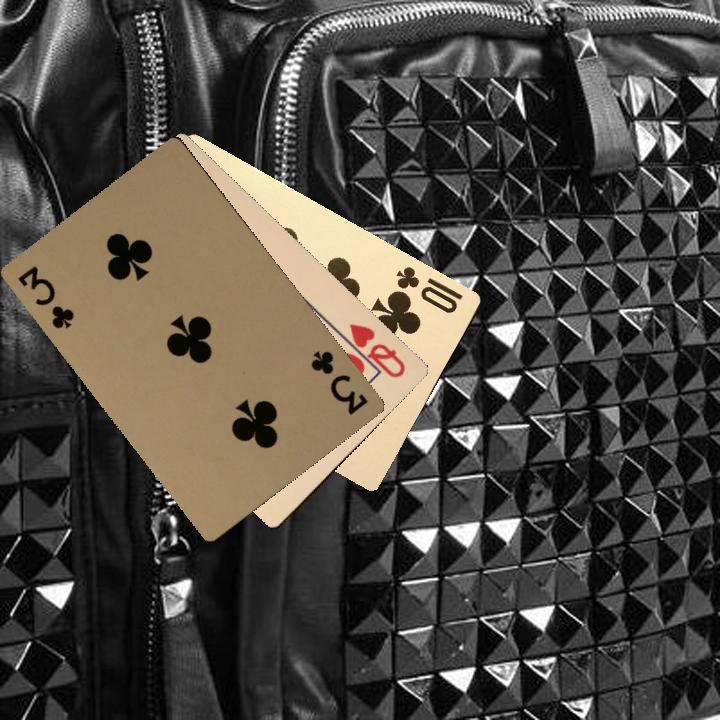10c: (391, 262, 466, 317)
3c: (306, 346, 370, 418), (14, 261, 77, 332)
Qh: (335, 319, 408, 381)
